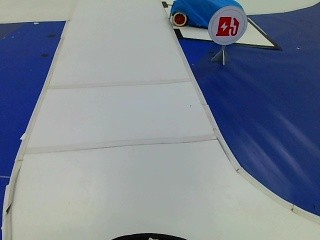battery: (208, 11, 242, 44)
car: (164, 0, 244, 32)
